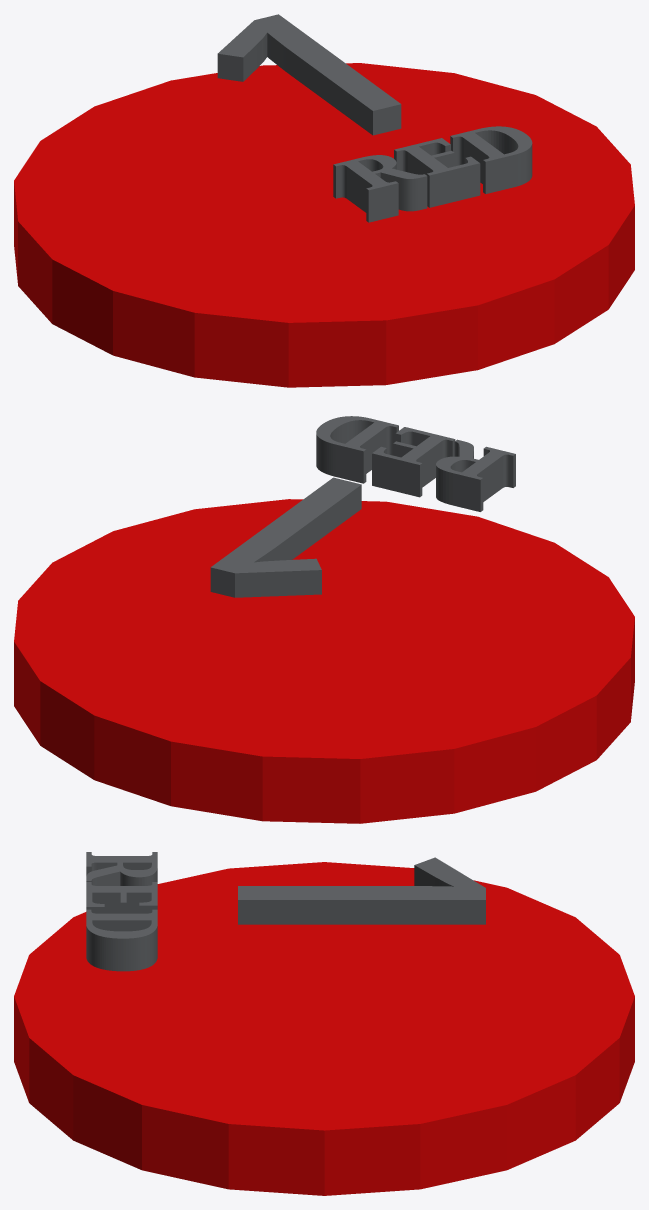
The model's file is 1red.gltf.
3 renders of one model, top to bottom at view 1: azimuth 30°, elevation 25°; view 2: azimuth 150°, elevation 25°; view 3: azimuth 270°, elevation 25°, orthographic.
Parts seen in each view (by area): view 1: Mesh_Mesh_head_geo001_lambert2SG001; view 2: Mesh_Mesh_head_geo001_lambert2SG001; view 3: Mesh_Mesh_head_geo001_lambert2SG001.
Boxes of the visible parts, left/top/right/bottom form: Mesh_Mesh_head_geo001_lambert2SG001: left=14, top=14, right=634, bottom=387; Mesh_Mesh_head_geo001_lambert2SG001: left=14, top=416, right=634, bottom=823; Mesh_Mesh_head_geo001_lambert2SG001: left=14, top=852, right=634, bottom=1195.
Bounding box in the file's own units: 176 × 54.56 × 172.
